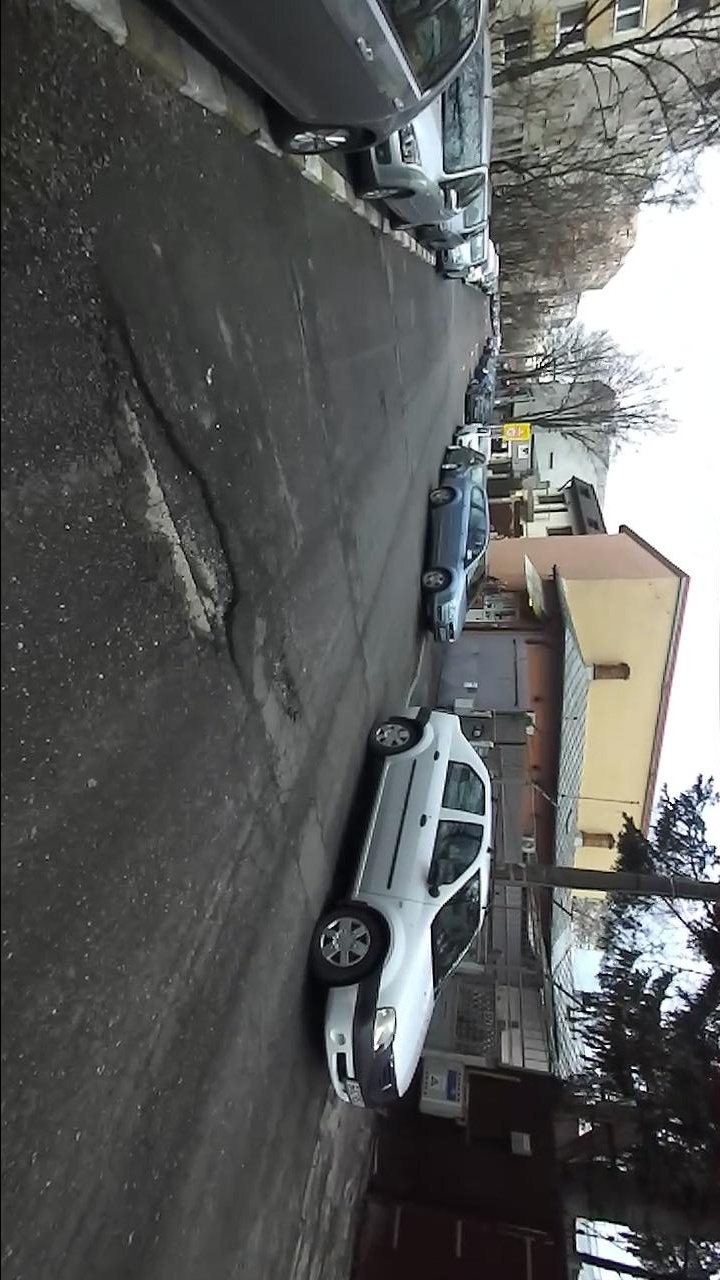pothole: (91, 280, 249, 690), (267, 638, 310, 731), (286, 277, 318, 362)
